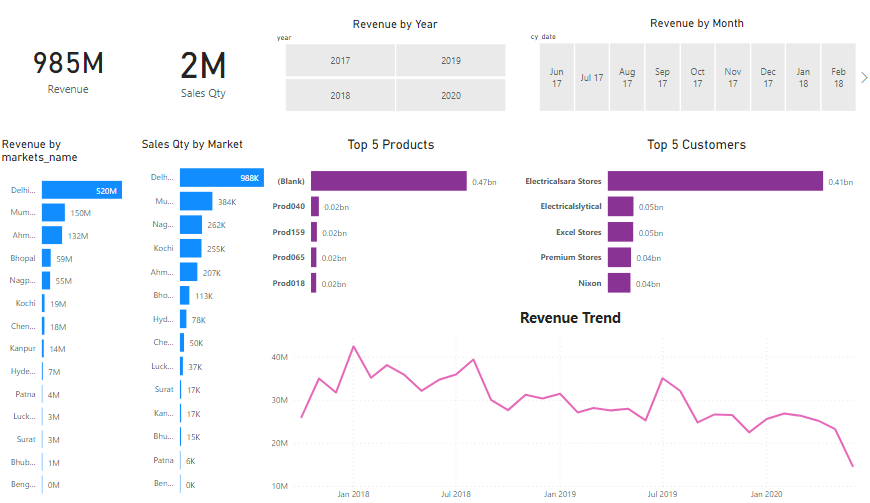

Layout of this report page (visuals, bound fields, positions):
{"tool":"powerbi","page":{"name":"Page 1","canvas":[1281,746],"ordinal":0},"visuals":[{"type":"card","fields":{"Values":["BaseMeasures.Sales Qty"]},"box":[205.2,0,190.5,205.2],"z":0},{"type":"card","fields":{"Values":["BaseMeasures.Revenue"]},"box":[0,0,205.2,205.2],"z":1000},{"type":"barChart","fields":{"Y":["BaseMeasures.Revenue"],"Category":["sales markets.markets_name"]},"box":[0,205.2,205.2,540.8],"z":2000},{"type":"barChart","title":"Sales Qty by Market","fields":{"Y":["BaseMeasures.Sales Qty"],"Category":["sales markets.markets_name"]},"box":[205.2,205.2,190.5,540.8],"z":3000},{"type":"slicer","title":"Revenue by Year","fields":{"Values":["sales date.year"]},"box":[395.7,29.3,372.3,145.1],"z":4000},{"type":"slicer","title":"Revenue by Month","fields":{"Values":["sales date.cy_date"]},"box":[768.3,28.6,512.7,146.3],"z":5000},{"type":"barChart","title":"Top 5 Customers","fields":{"Y":["BaseMeasures.Revenue"],"Category":["sales customers.custmer_name"]},"box":[766.6,205.1,514.4,248.8],"z":6000},{"type":"barChart","title":"Top 5 Products","fields":{"Y":["BaseMeasures.Revenue"],"Category":["sales products.product_code"]},"box":[395.1,205.1,359.8,248.8],"z":7000},{"type":"lineChart","title":"Revenue Trend","fields":{"Y":["BaseMeasures.Revenue"],"Category":["sales date.cy_date"]},"box":[395.1,453.9,885.9,292.5],"z":7001}]}

Visuals, with their boxes in screenshot pixels (x1, y1, x2, y2), scaled from the page's 1281x746 canvas onto the 870x503 screenshot:
card - BaseMeasures.Sales Qty: [139,0,269,138]
card - BaseMeasures.Revenue: [0,0,139,138]
barChart - BaseMeasures.Revenue x sales markets.markets_name: [0,138,139,502]
"Sales Qty by Market" barChart: [139,138,269,502]
"Revenue by Year" slicer: [269,20,522,118]
"Revenue by Month" slicer: [522,19,869,118]
"Top 5 Customers" barChart: [521,138,869,306]
"Top 5 Products" barChart: [268,138,513,306]
"Revenue Trend" lineChart: [268,306,869,502]
